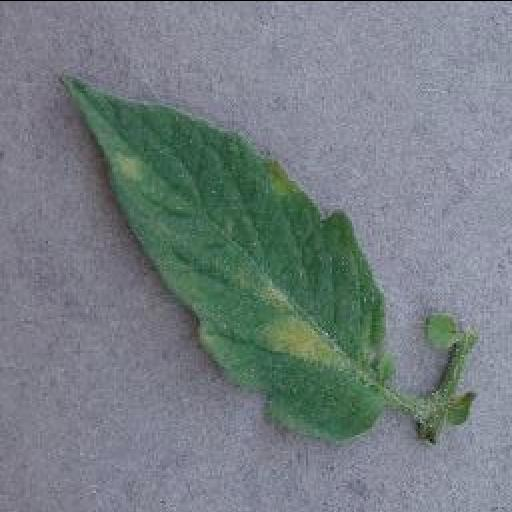disease_tomato: (56, 80, 398, 445)
